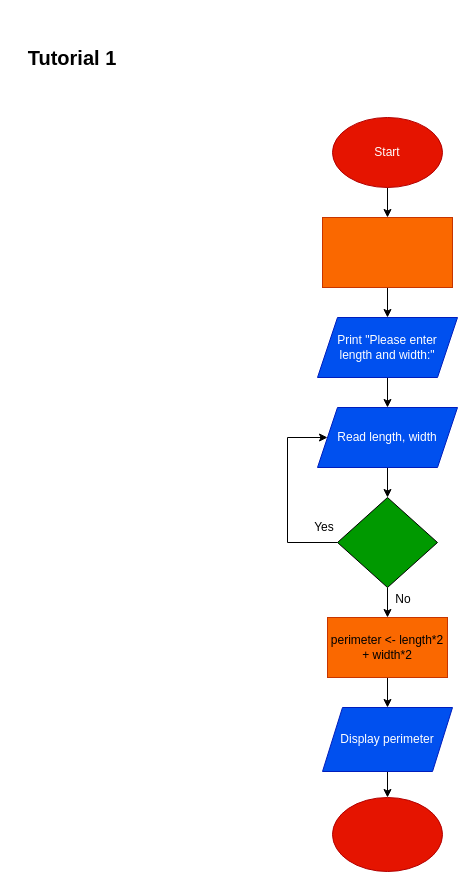
Some shapes in this 475 by 889 pixel diagram are drawn without their labels. Each missing label, with the centre of its shape:
Declare length, width, perimeter: [387,252]
End: [387,834]
length<=0 OR width <= 0: [387,542]
